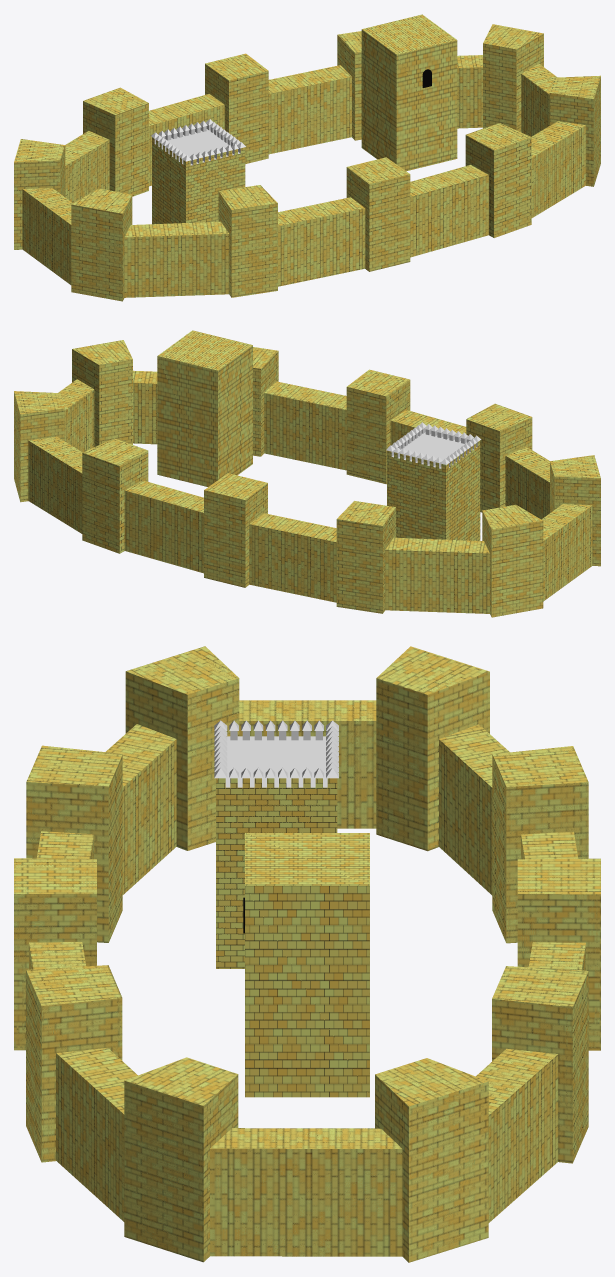
The model's file is Castillo2.fbx.
The picture shows the model from 3 angles, top to bottom: view 1: azimuth 30°, elevation 25°; view 2: azimuth 150°, elevation 25°; view 3: azimuth 270°, elevation 25°; orthographic projection. The views are drawn at different scales.
Parts seen in each view (by area): view 1: muralla, torre2, torre1; view 2: muralla, torre2, torre1; view 3: muralla, torre2, torre1.
Part boxes in pixels (box(x1,y1,x2,y2)): muralla: box(14, 24, 600, 301); torre2: box(361, 14, 457, 171); torre1: box(151, 119, 245, 224); muralla: box(14, 340, 600, 617); torre2: box(157, 330, 252, 486); torre1: box(386, 422, 481, 540); muralla: box(14, 646, 600, 1262); torre2: box(243, 833, 369, 1097); torre1: box(214, 720, 338, 968).
Size of the model in its own units: 5135 by 1494 by 2767.
Materials: 5 (3 with a texture image).
